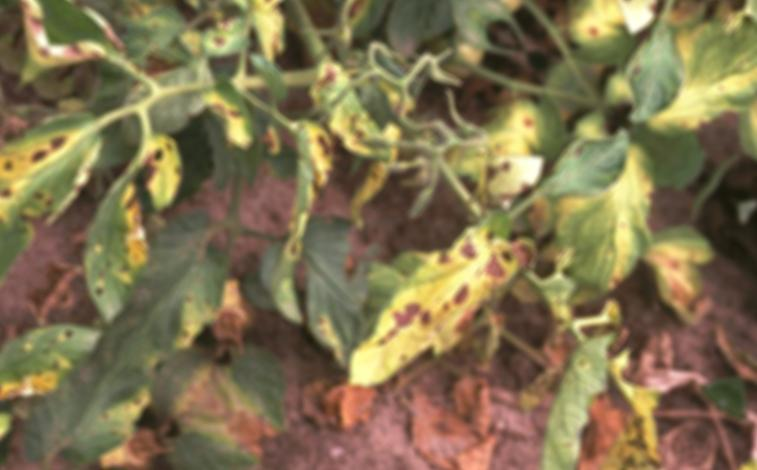Tomato Early blight leaf: (340, 189, 557, 433), (38, 124, 225, 332), (0, 85, 131, 279), (549, 373, 707, 470), (121, 0, 356, 62)
